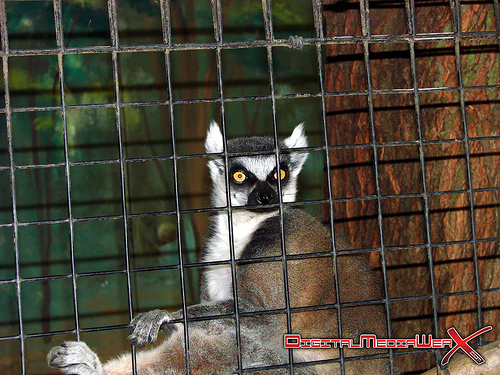cat: (45, 121, 392, 374)
